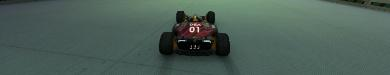Car: (158, 10, 230, 56)
grass: (0, 0, 389, 74)
